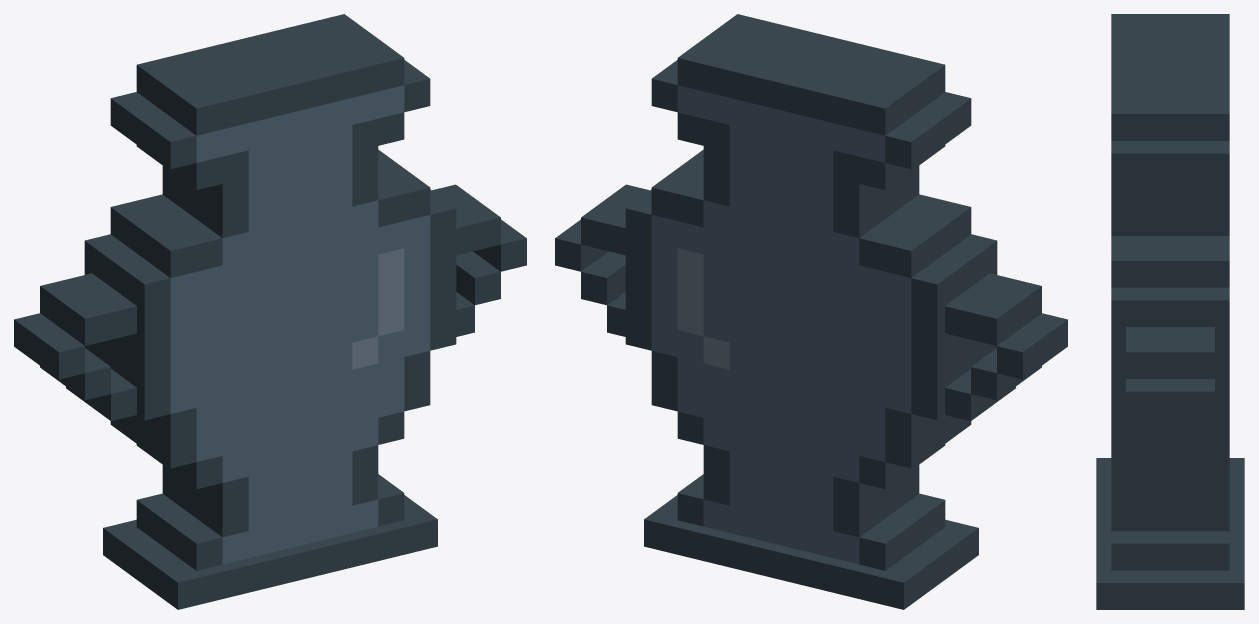
The model's file is XtraVase4.fbx.
3 views of the same model, side by side, from view 1: azimuth 30°, elevation 25°; view 2: azimuth 150°, elevation 25°; view 3: azimuth 270°, elevation 25° (orthographic).
Visible parts, largest first — view 1: shape0 (×176); view 2: shape0 (×176); view 3: shape0 (×40).
Boxes of the visible parts, <box> form: shape0 (×176): <box>14,14,526,609</box>; shape0 (×176): <box>555,14,1067,609</box>; shape0 (×40): <box>1096,14,1244,609</box>.
Size of the model in its own units: 18 by 18 by 5.
